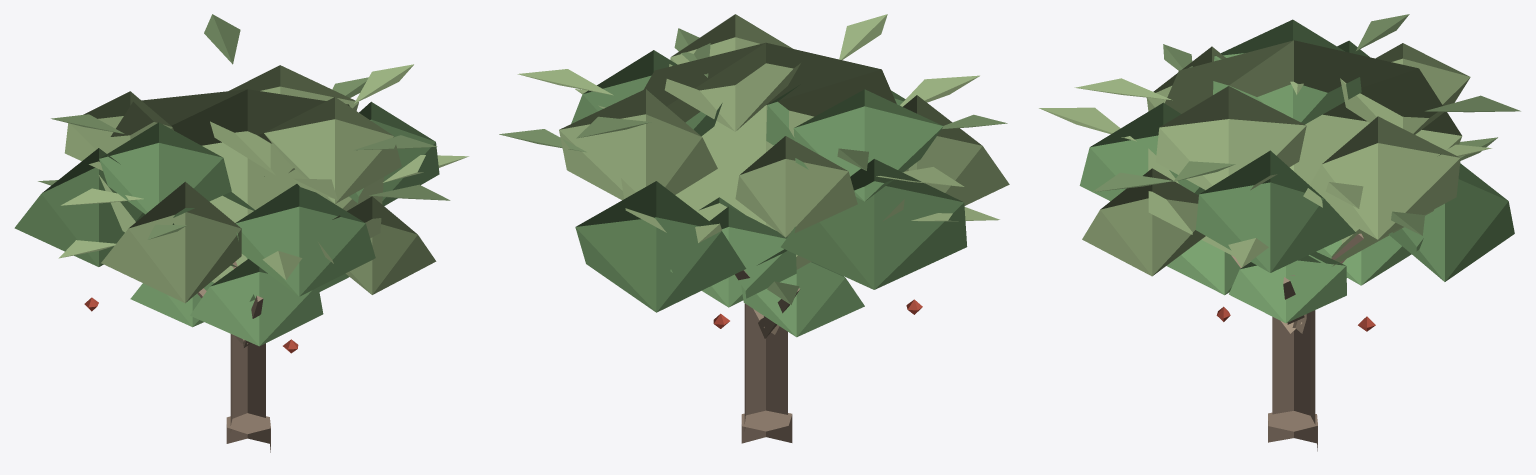
File: shu.fenghuang@fruiting__summer.glb
The picture shows the model from 3 angles, left to right: view 1: azimuth 30°, elevation 25°; view 2: azimuth 150°, elevation 25°; view 3: azimuth 270°, elevation 25°; orthographic projection. The views are drawn at different scales.
Visible parts, largest first — view 1: shu.fenghuang@fruiting__summer; view 2: shu.fenghuang@fruiting__summer; view 3: shu.fenghuang@fruiting__summer.
Part boxes in pixels (x1=…): shu.fenghuang@fruiting__summer: x1=14, y1=14, x2=468, y2=452; shu.fenghuang@fruiting__summer: x1=499, y1=14, x2=1009, y2=443; shu.fenghuang@fruiting__summer: x1=1039, y1=14, x2=1520, y2=451.
Bounding box in the file's own units: 14.24 × 12.07 × 13.43.
